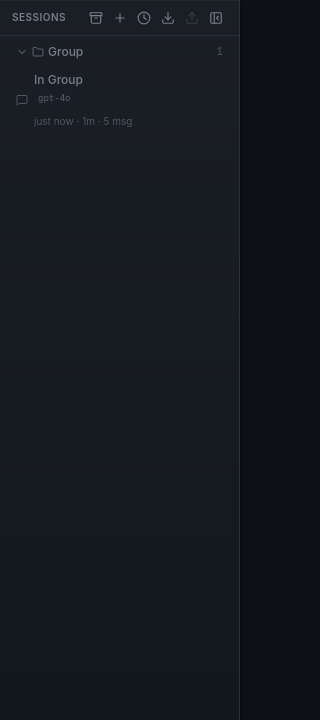
Test: Sidebar — session groups › collapses group on chevron click
What coordinates should you click on to do the following:
click the text "Group"
I would click on:
 (66, 52)
Its box is [8, 40, 231, 64].
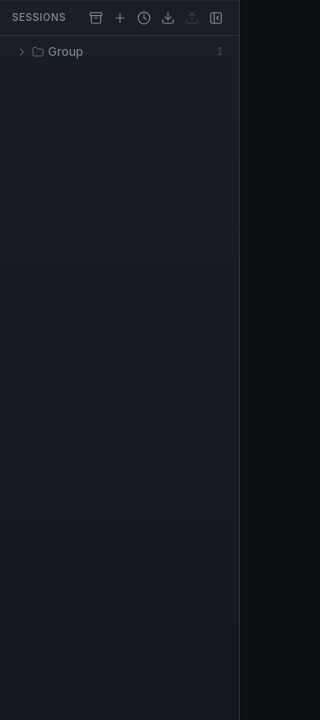
Result: the button "In Group" is gone
